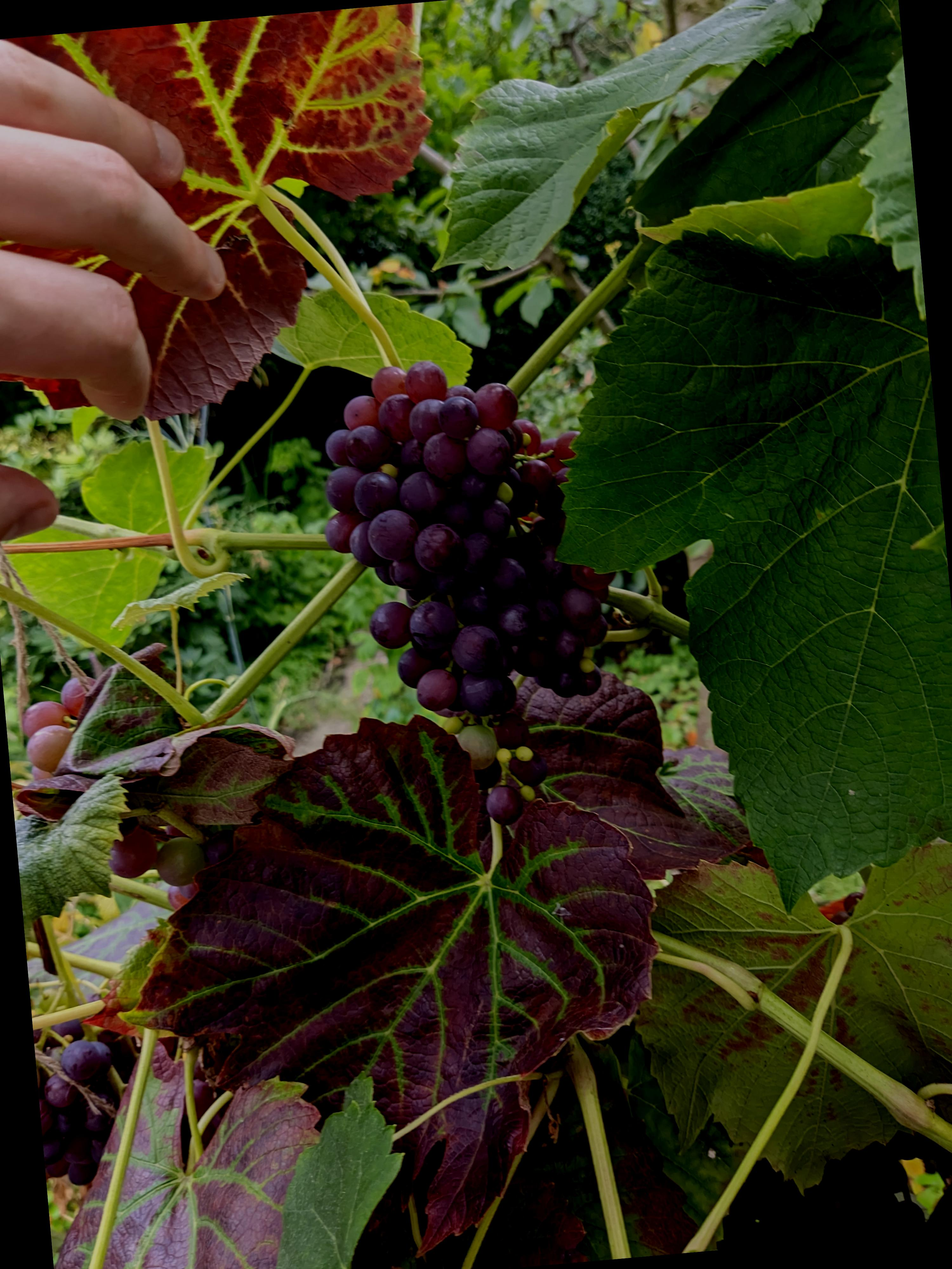Grape Unripe: (252, 380, 593, 881), (0, 688, 211, 942), (665, 1164, 881, 1269), (0, 1042, 102, 1229)
